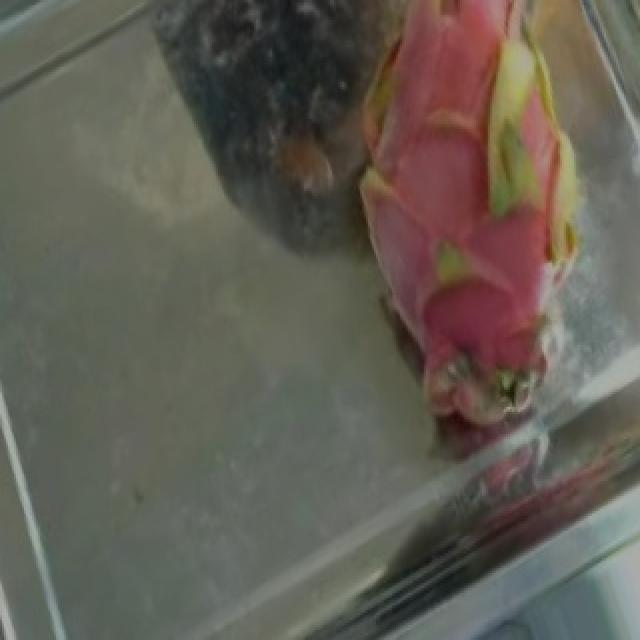fruit: (248, 7, 640, 464)
